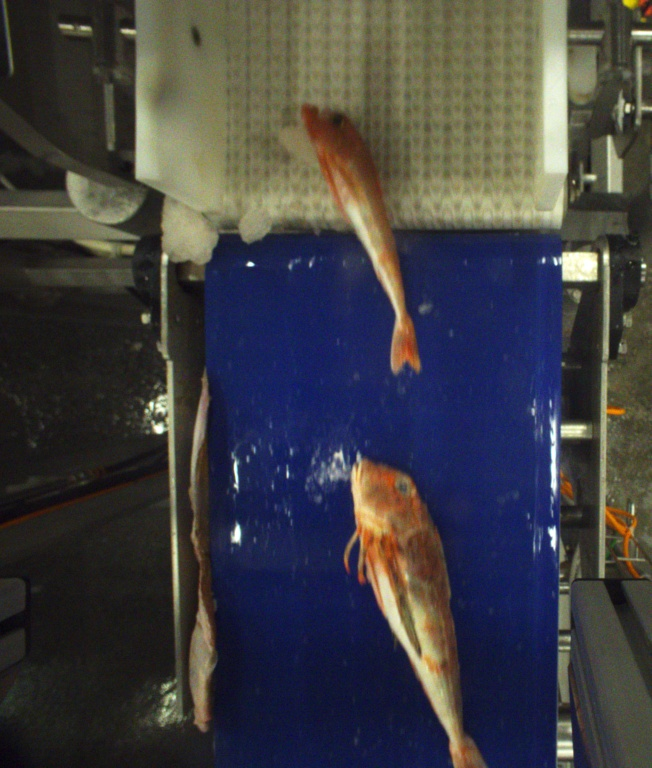GUU: (295, 97, 422, 375)
